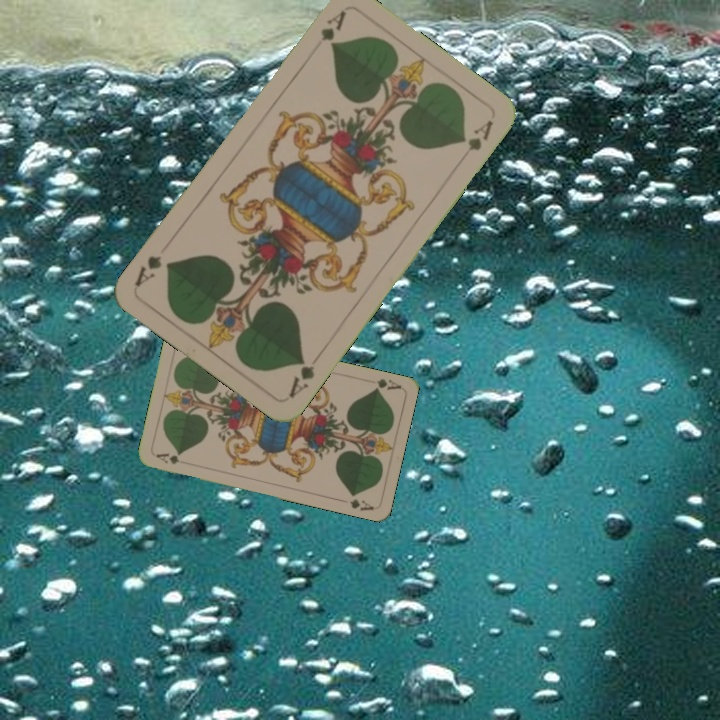GA: (284, 355, 318, 402), (316, 6, 349, 44), (371, 374, 403, 393), (152, 449, 183, 467)
